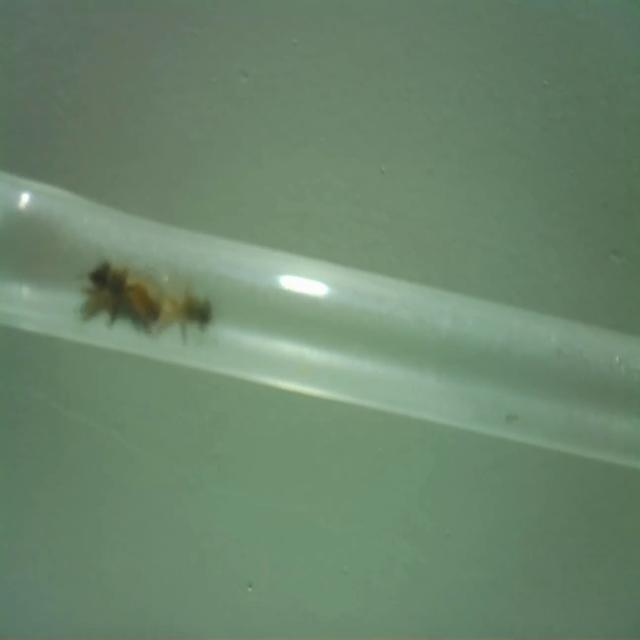Honeybee-Detection: (88, 261, 160, 330), (156, 283, 217, 344), (80, 251, 110, 325)
